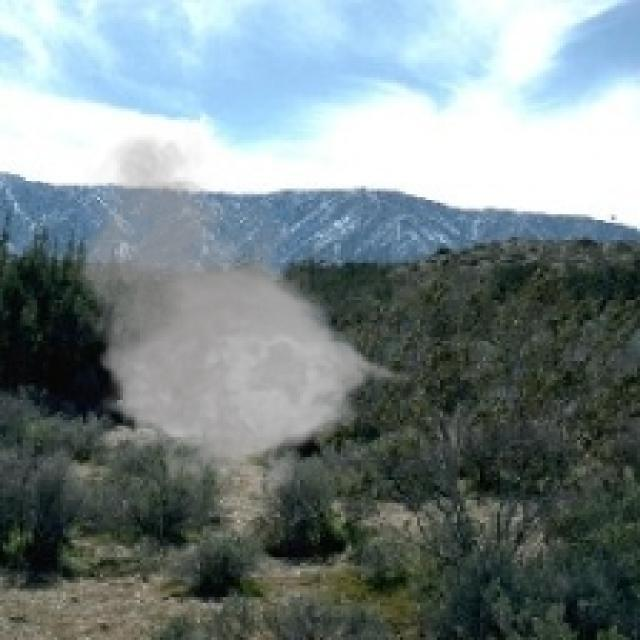Smoke: (62, 128, 418, 506)
